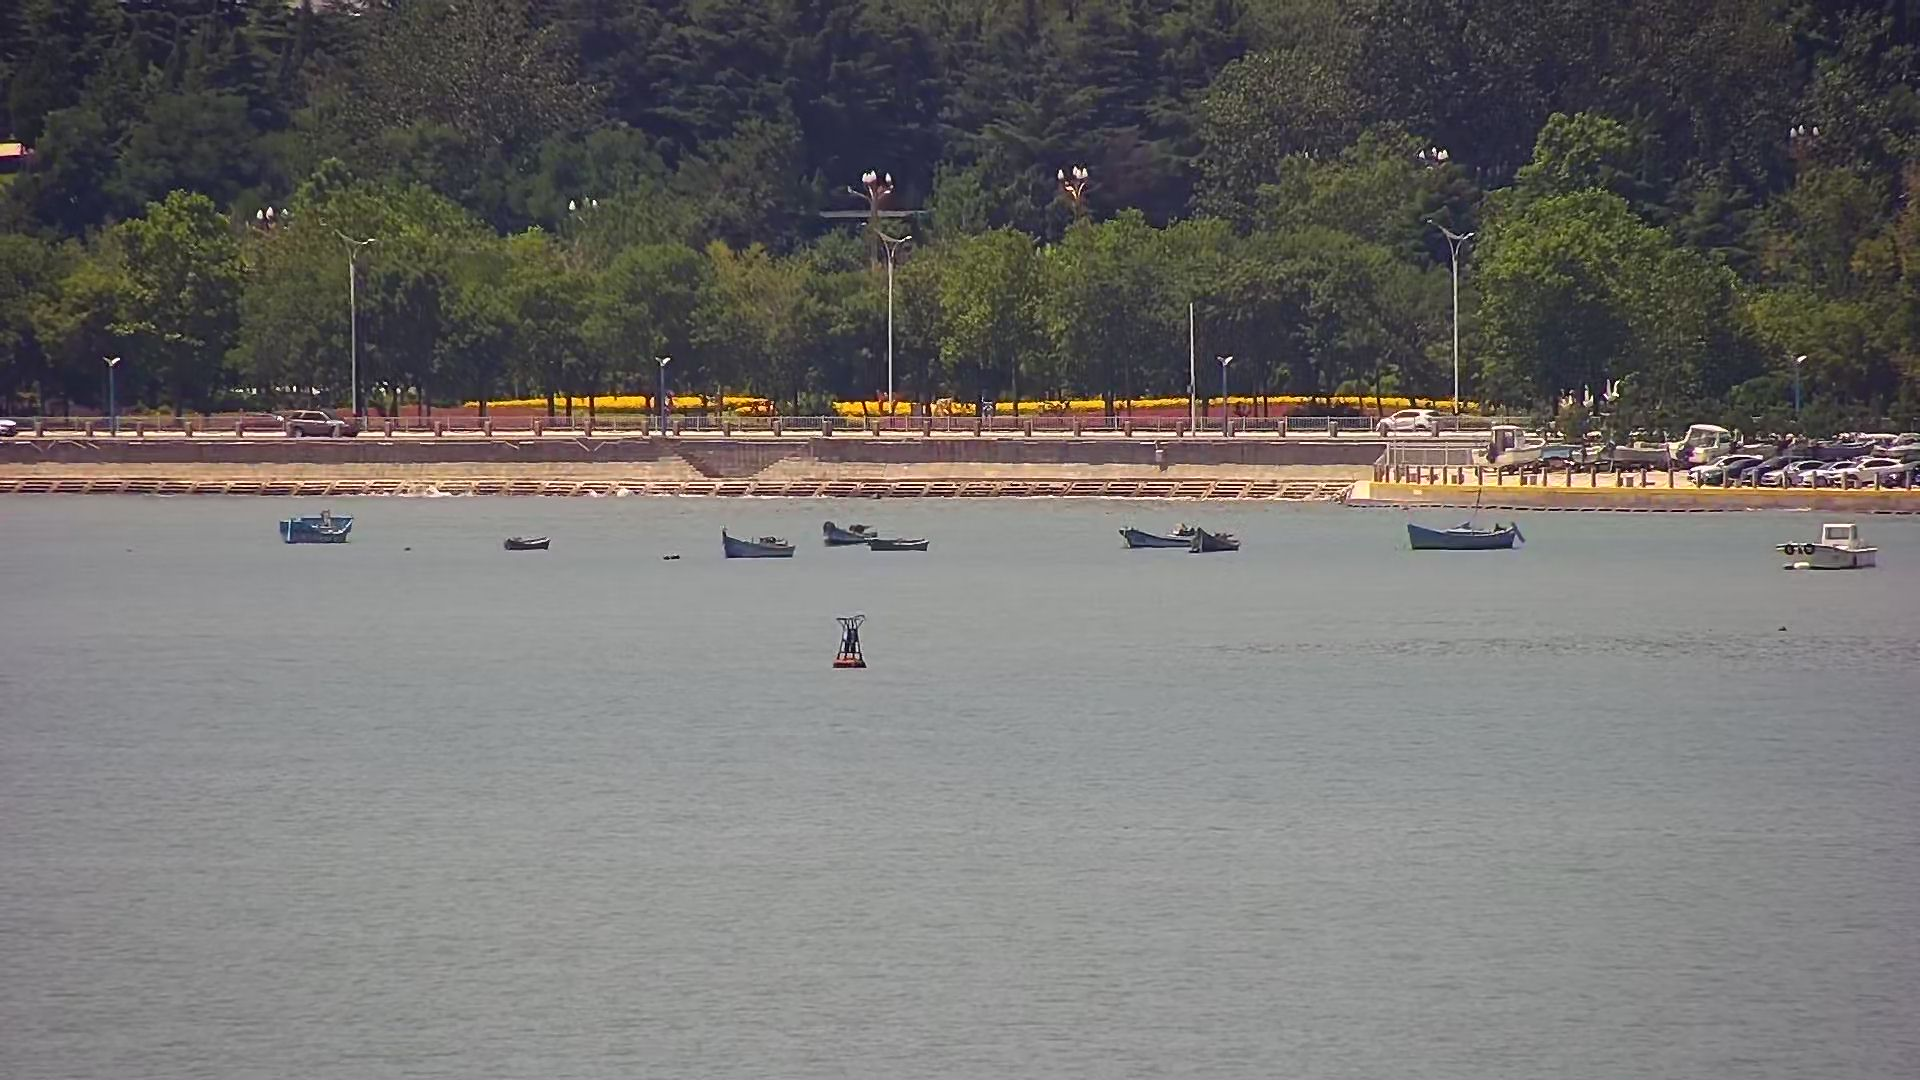boat: (1778, 520, 1880, 576), (1408, 517, 1532, 553), (721, 524, 800, 568), (278, 508, 357, 550), (1118, 516, 1197, 549), (818, 512, 882, 550), (866, 530, 932, 554), (1195, 524, 1241, 556), (495, 534, 558, 556)
buoy: (828, 605, 872, 675)
